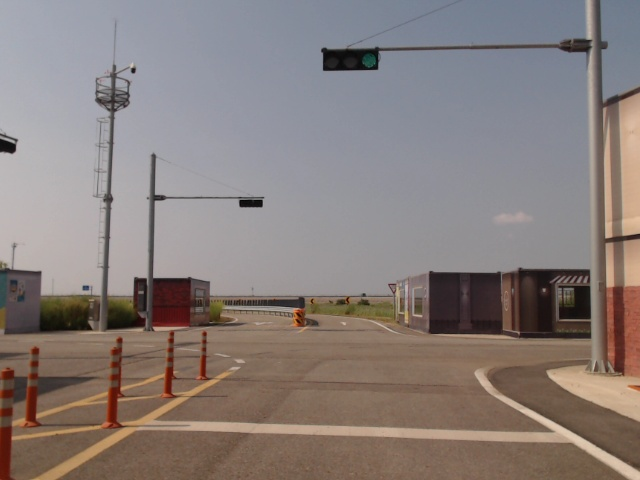green_3: (323, 48, 379, 71)
